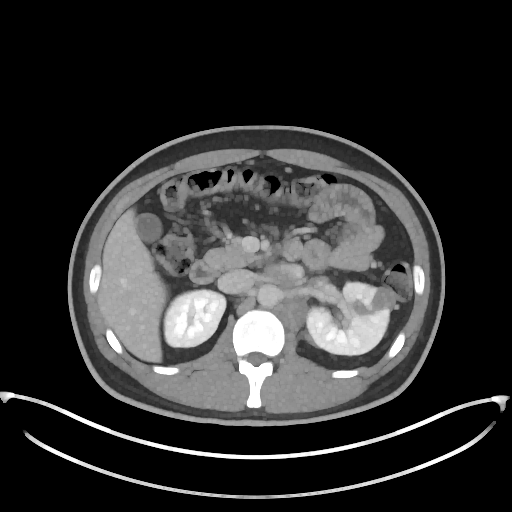Lesion: (369, 282, 400, 315)
